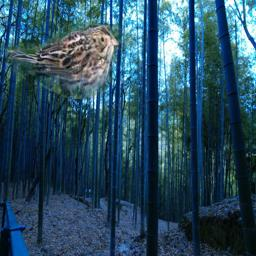Sparrow: (5, 23, 121, 99)
